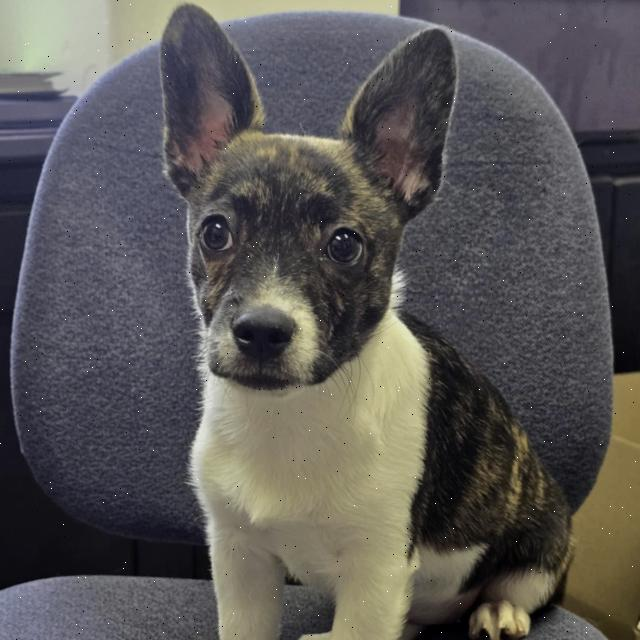corgi_dog: (114, 1, 486, 428)
